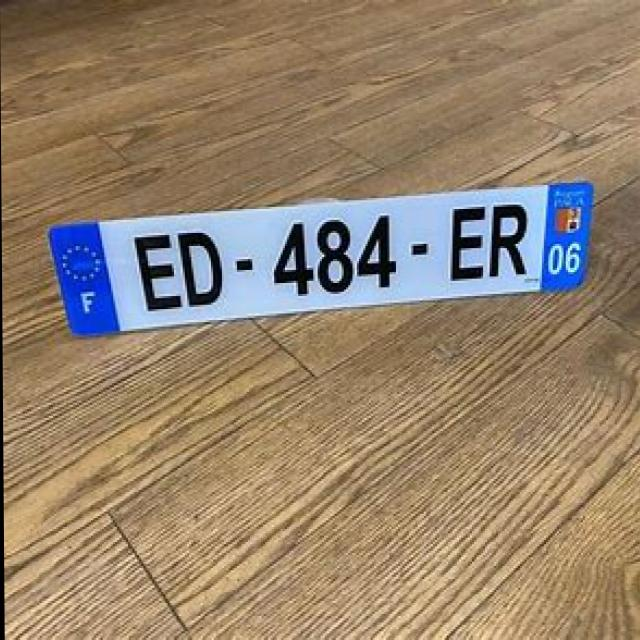Plaque: (49, 185, 583, 325)
